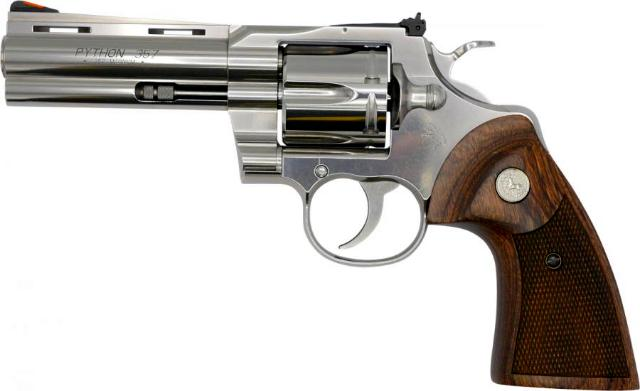pistol: (0, 3, 640, 390)
